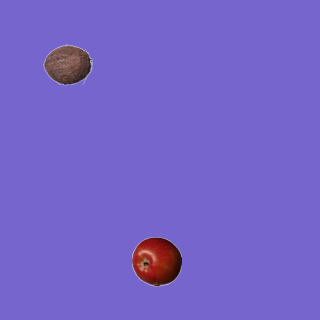Apple Braeburn: (131, 236, 181, 286)
Cocos: (42, 39, 92, 89)
